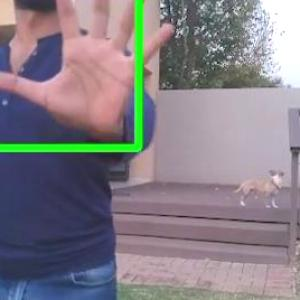follow_hand: (1, 0, 180, 138)
